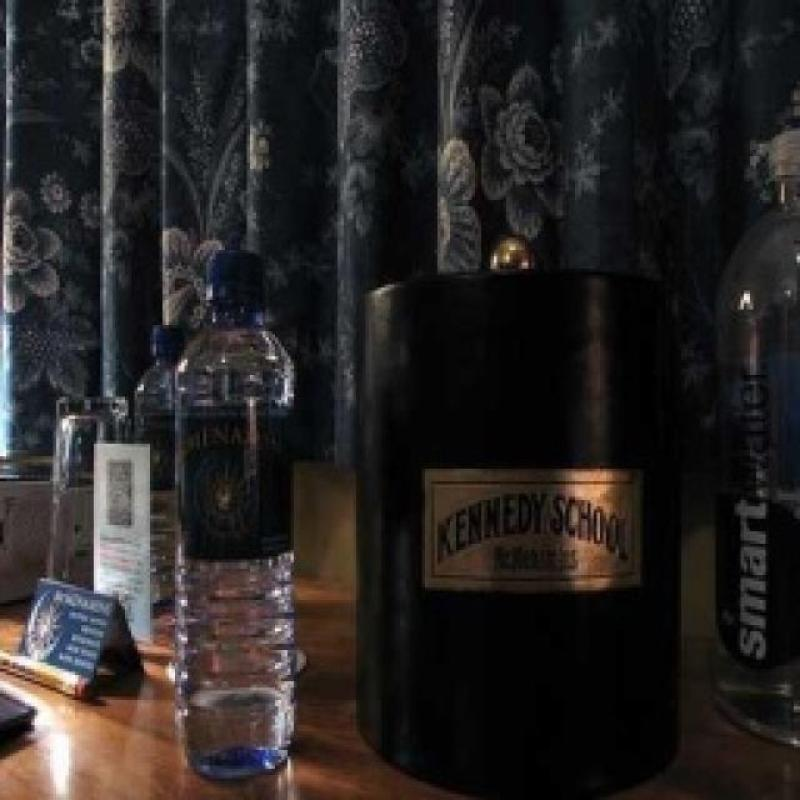botella: (180, 253, 299, 778), (137, 323, 175, 627)
